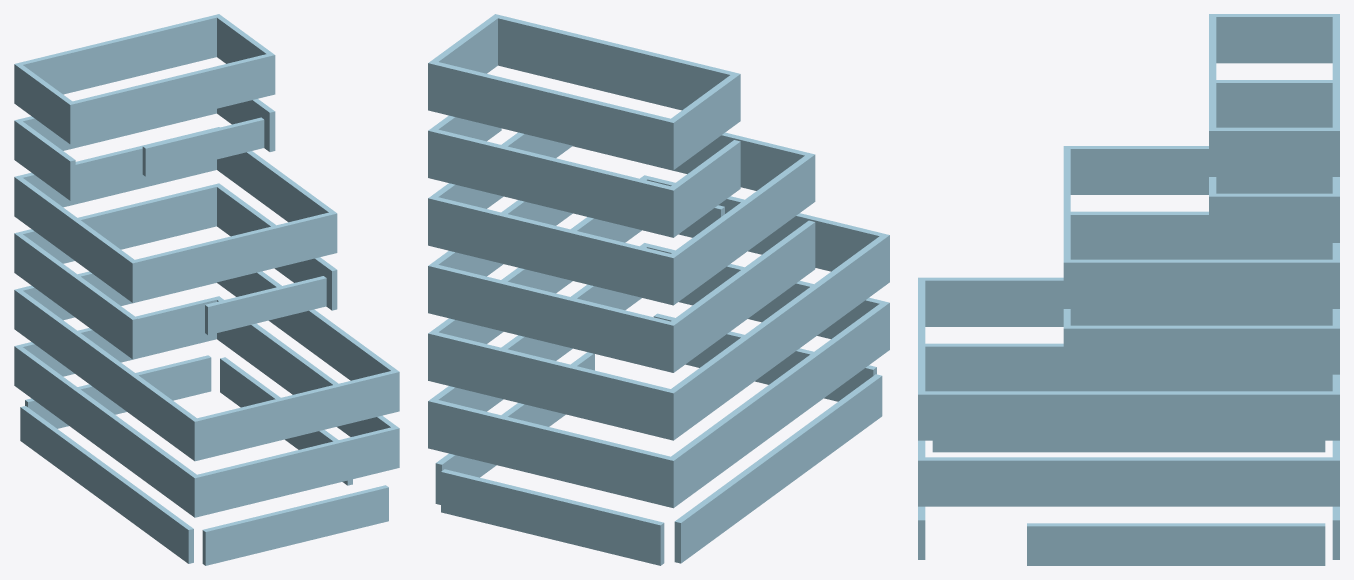
File: building_big_4_reflections.obj
3 renders of one model, left to right at view 1: azimuth 30°, elevation 25°; view 2: azimuth 150°, elevation 25°; view 3: azimuth 270°, elevation 25°, orthographic. The views are drawn at different scales.
Bounding box in the file's own units: 3.8 × 6.6 × 5.8.
Materials: 1 (1 with a texture image).
